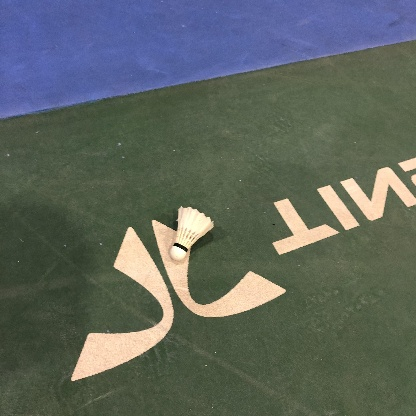ball_single: (170, 206, 215, 261)
